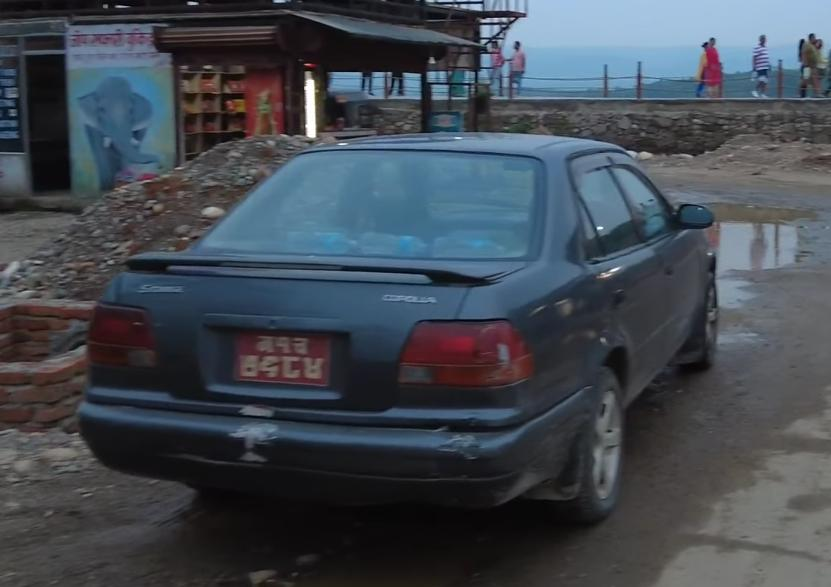car: (84, 139, 734, 519)
